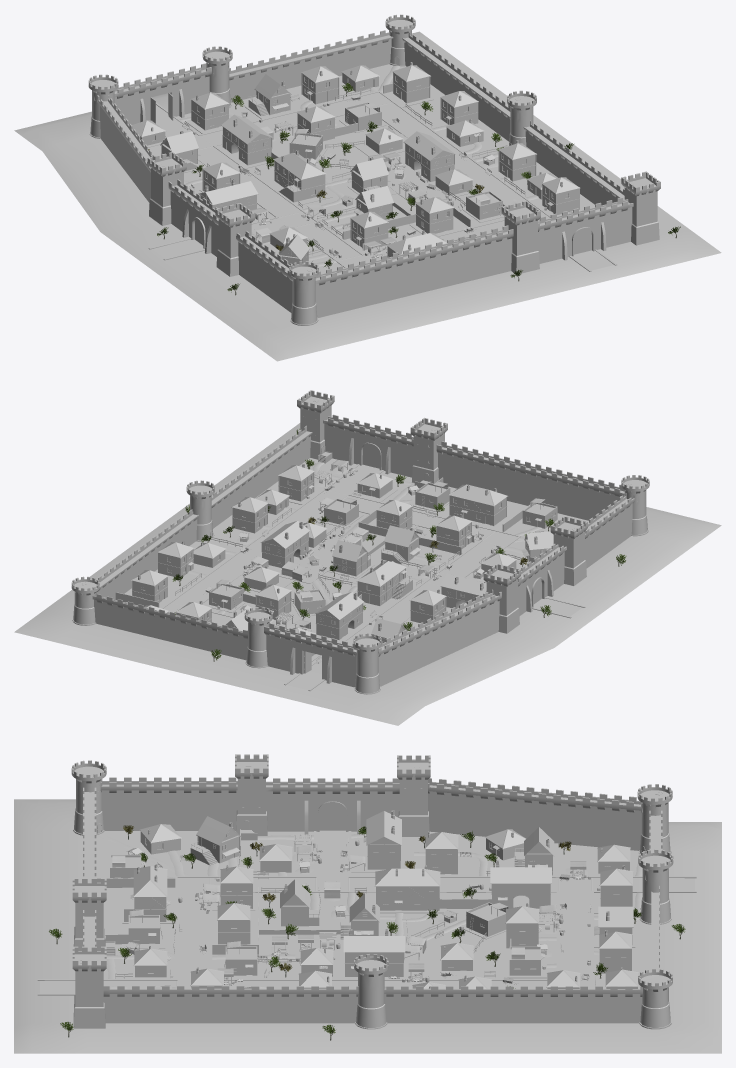
The model's file is Medieval_Town.fbx.
3 renders of one model, top to bottom at view 1: azimuth 30°, elevation 25°; view 2: azimuth 150°, elevation 25°; view 3: azimuth 270°, elevation 25°, orthographic. The views are drawn at different scales.
Visible parts, largest first — view 1: Medieval_town; view 2: Medieval_town; view 3: Medieval_town.
Part boxes in pixels (x1,y1,x2,y2): Medieval_town: (14,14,721,361); Medieval_town: (14,390,721,725); Medieval_town: (14,754,721,1053).
Size of the model in its own units: 840 by 111 by 989.
